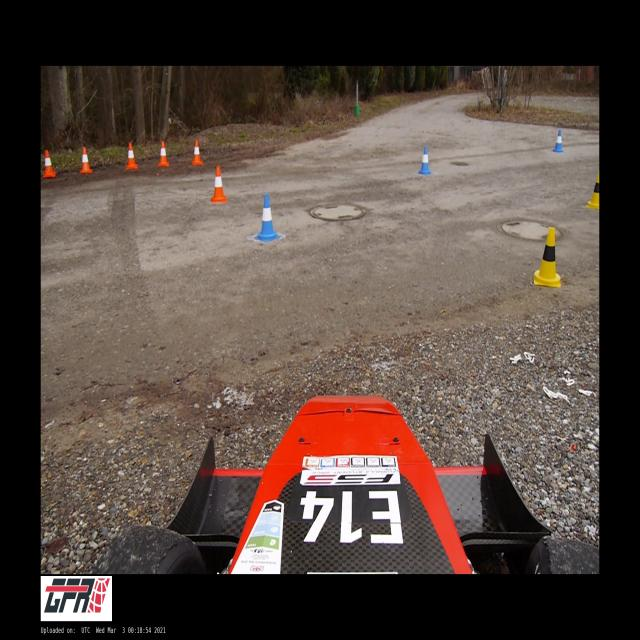blue_cone: (254, 194, 280, 241), (419, 146, 431, 174), (553, 129, 564, 152)
orange_cone: (211, 166, 227, 202), (43, 150, 56, 177), (80, 147, 92, 173), (126, 143, 138, 169), (158, 141, 170, 167), (191, 140, 203, 164)
yellow_cone: (534, 228, 561, 288), (586, 172, 599, 208)
